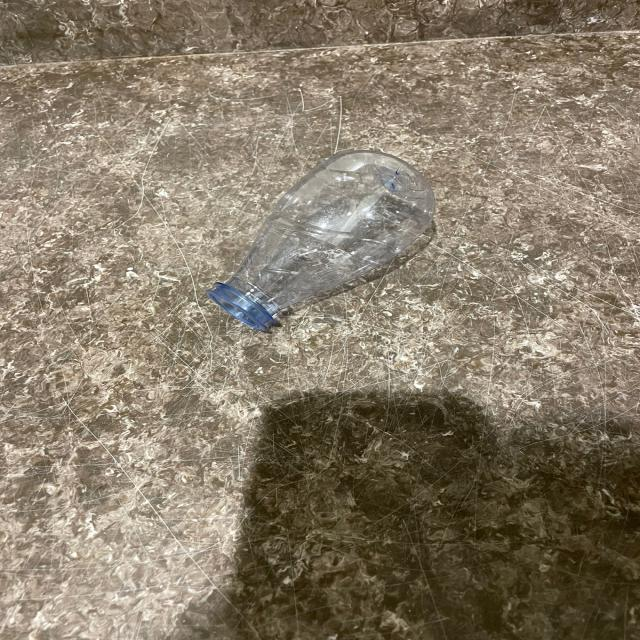chai: (209, 150, 435, 331)
